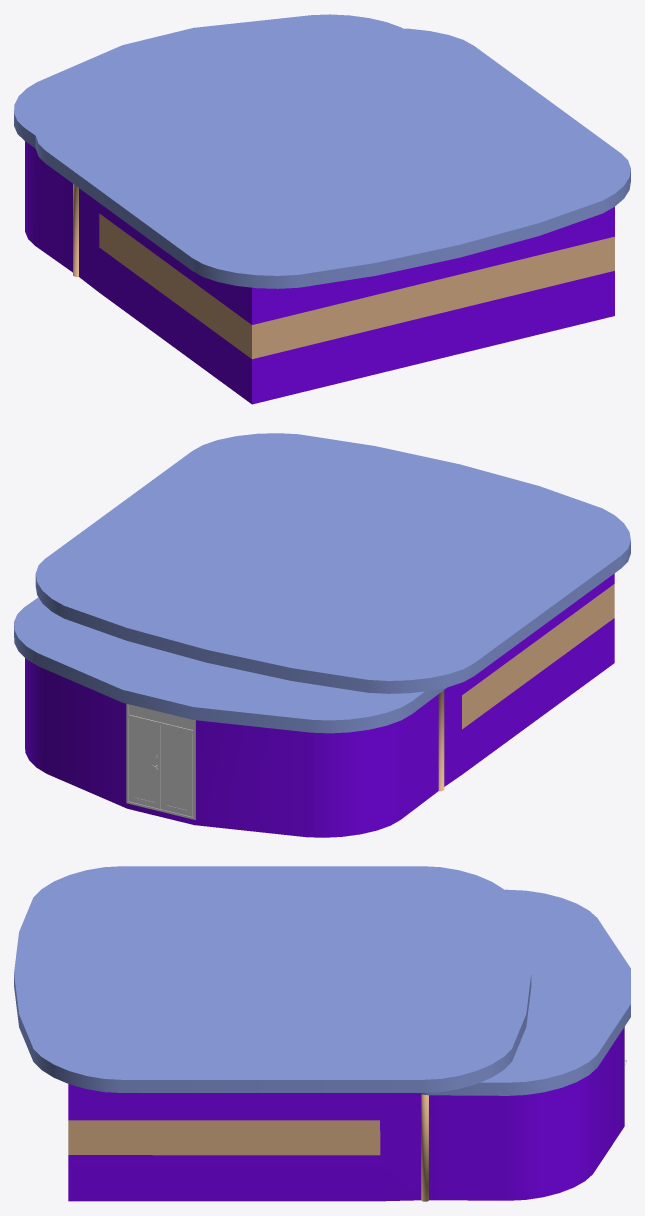
Rendered from Room.fbx.
3 views of the same model, one above another, from view 1: azimuth 30°, elevation 25°; view 2: azimuth 150°, elevation 25°; view 3: azimuth 270°, elevation 25° (orthographic). The views are drawn at different scales.
Parts seen in each view (by area): view 1: box; view 2: box, Main_door_2, Main_door_1, Door_frame; view 3: box.
Part boxes in pixels (x1=…): box: x1=14, y1=14, x2=630, y2=404; box: x1=14, y1=433, x2=630, y2=837; Main_door_2: x1=161, y1=725, x2=192, y2=816; Main_door_1: x1=129, y1=717, x2=160, y2=809; Door_frame: x1=126, y1=703, x2=195, y2=819; box: x1=14, y1=866, x2=630, y2=1201.
Size of the model in its own units: 1389 by 418 by 1695.
